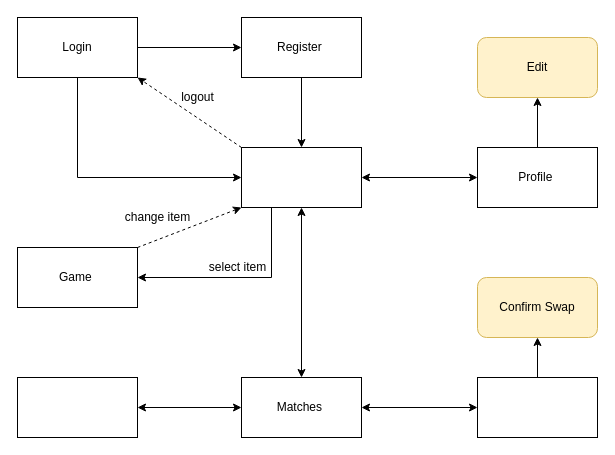
Some shapes in this 615 by 455 pixel diagram are drawn without their labels. The shapes that lost their labels are listed below. From the top down, each one's box as (x1, y1, x2, y2) in pixels, then its label:
(240, 146, 362, 208): Inventory
(16, 376, 138, 438): Matches on Map
(476, 376, 598, 438): Chat
